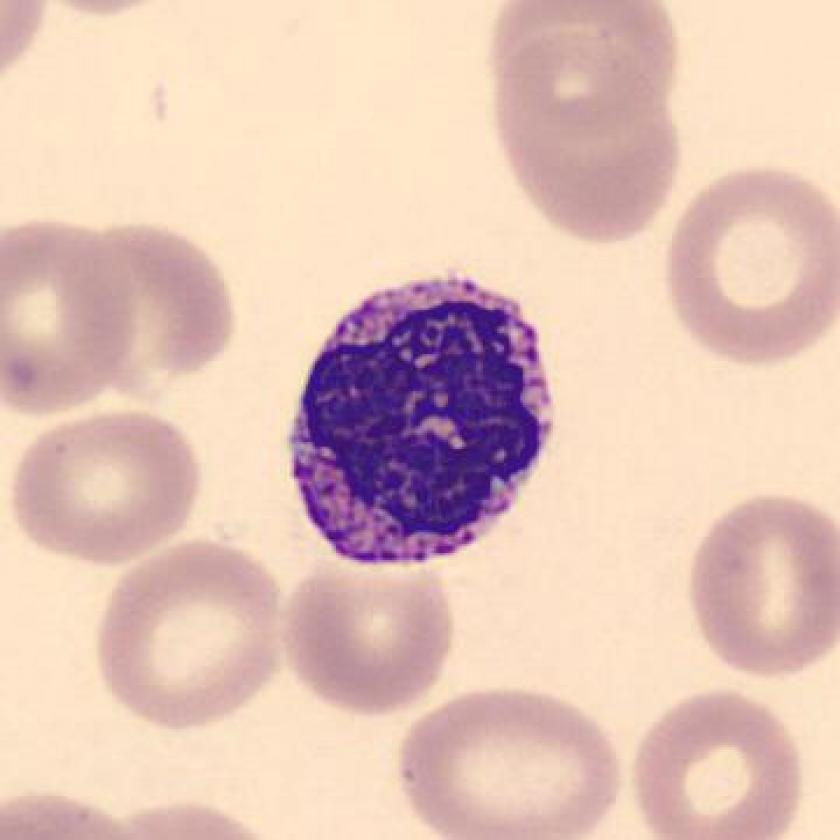basophil: (281, 253, 566, 582)
